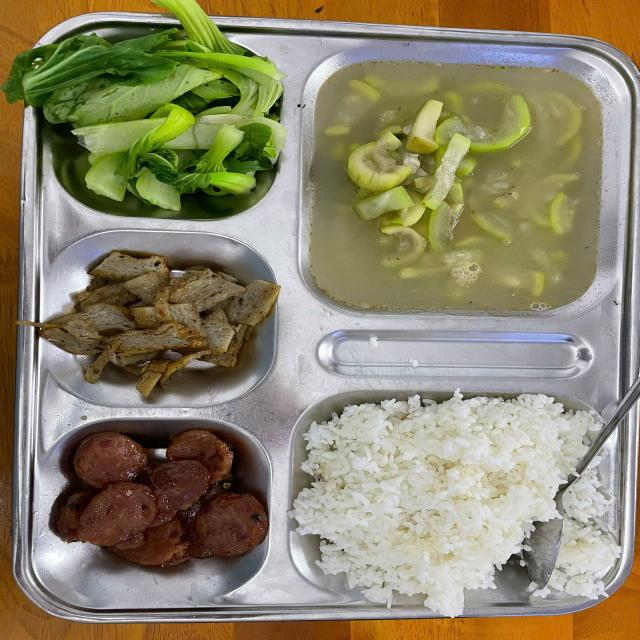caithia: (61, 41, 272, 210)
canhbau: (305, 68, 604, 316)
chaca: (56, 251, 275, 400)
lapxuong: (59, 429, 258, 576)
salad: (306, 401, 612, 598)
